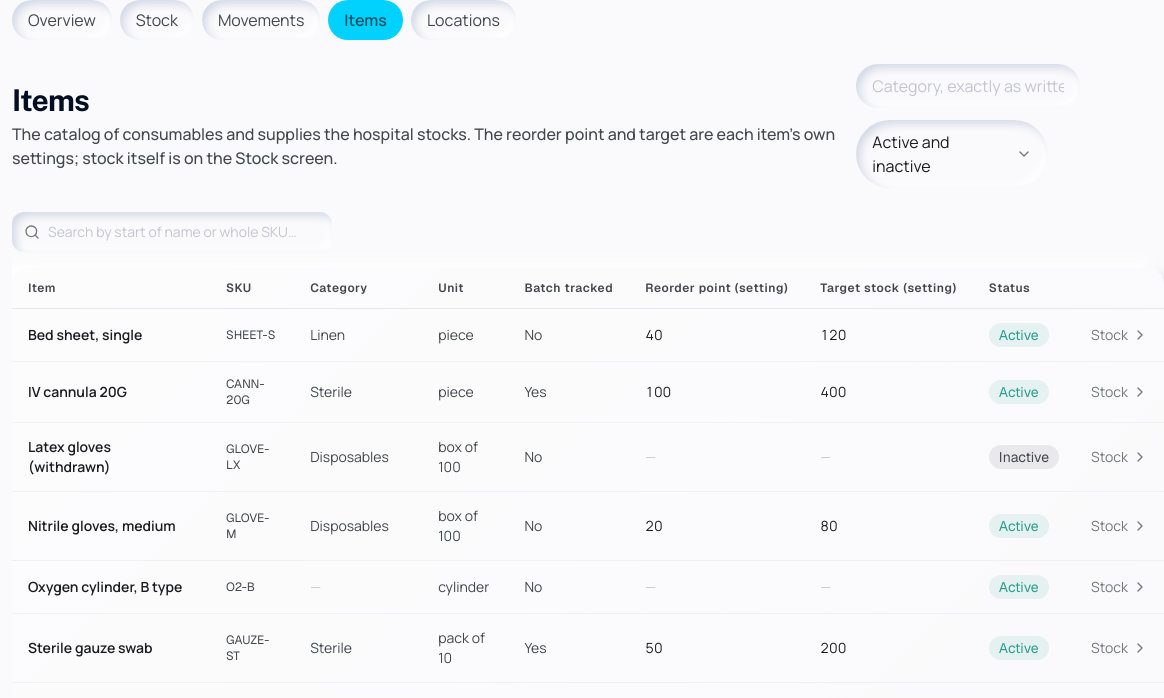
Test: items › sends the search trimmed, once the typing stops
This screenshot has width=1164, height=698.
Type "  nit" into the field labelled "Search by start of name or whole SKU…" at [172, 232], box [12,212,332,252]
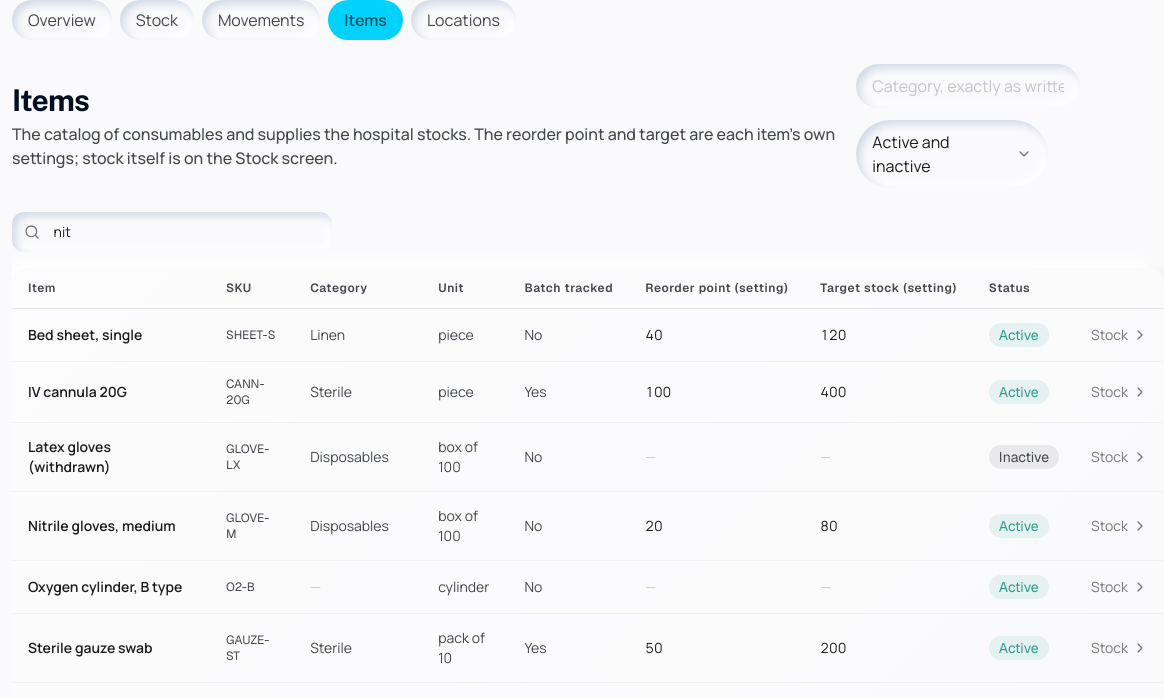
Replace the text in the field named "Search by start of name or whole SKU…" with "  nitr  " at [172, 232], box [12,212,332,252]
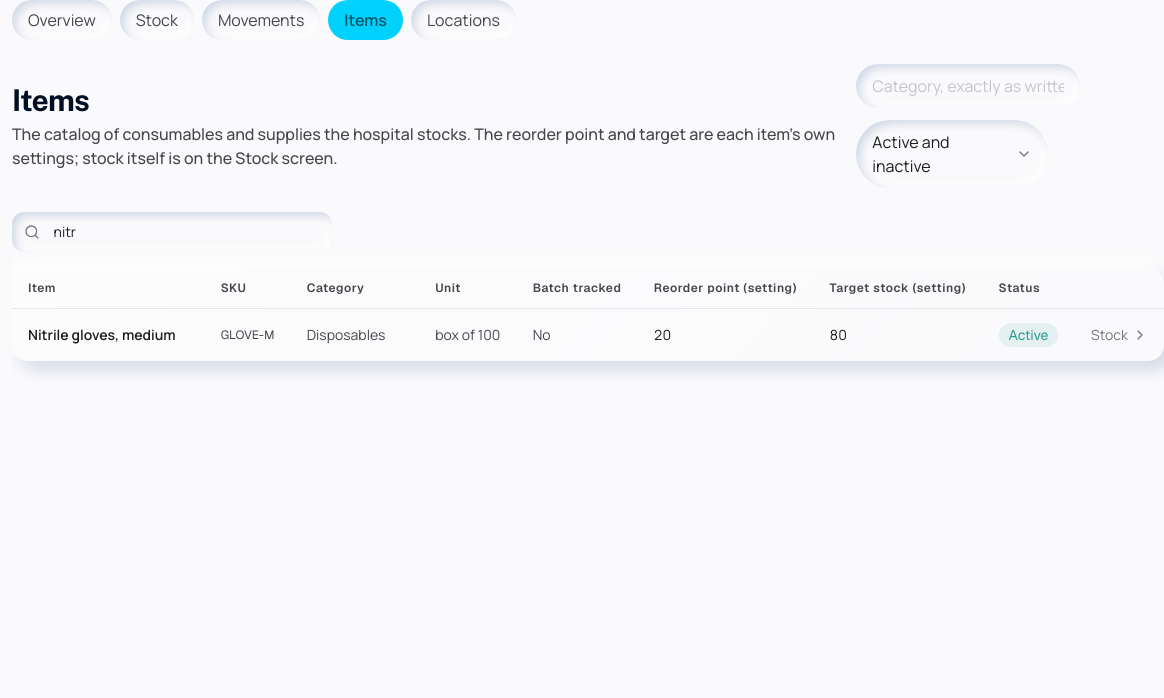
Expected: the row "Nitrile gloves, medium" is shown, [12,308,1163,361]
